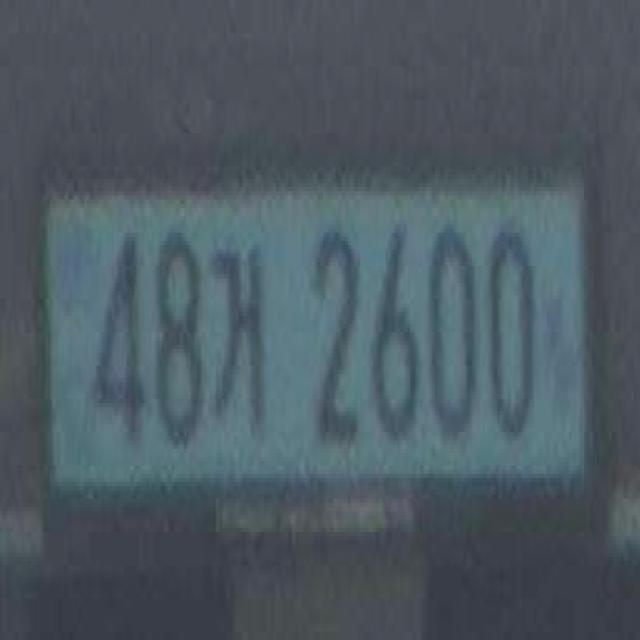EV_plate: (33, 162, 604, 550)
